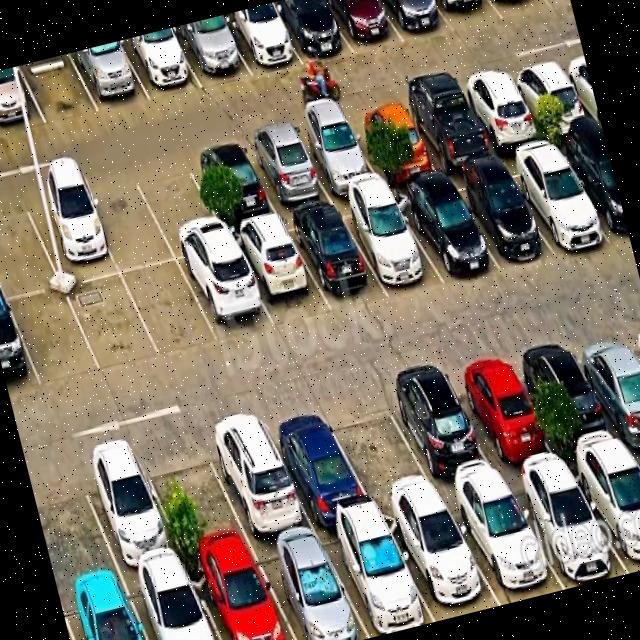empty: (135, 430, 251, 561), (320, 384, 440, 509), (27, 456, 120, 593), (131, 155, 229, 260), (80, 171, 175, 273), (65, 273, 161, 372), (121, 261, 218, 357), (8, 288, 101, 387), (0, 196, 61, 298), (19, 53, 99, 123)
occupied: (378, 365, 504, 498), (198, 408, 314, 544), (443, 350, 563, 481), (72, 442, 185, 575), (259, 399, 375, 527), (506, 468, 628, 589), (514, 334, 627, 463), (444, 483, 564, 604), (317, 514, 434, 638), (382, 501, 500, 621), (250, 532, 369, 640), (499, 146, 611, 253), (228, 219, 331, 329), (443, 166, 552, 269), (391, 181, 500, 284), (283, 205, 387, 311), (336, 193, 444, 294), (186, 547, 295, 640), (21, 183, 119, 286), (566, 322, 640, 447), (567, 448, 640, 573), (178, 248, 275, 342), (398, 87, 496, 173), (554, 134, 630, 243), (184, 142, 278, 229), (240, 129, 332, 213), (290, 116, 382, 198), (123, 563, 220, 640), (345, 102, 439, 181), (456, 72, 546, 152), (506, 59, 595, 138), (119, 27, 202, 100), (218, 5, 302, 75), (70, 41, 150, 112), (267, 0, 353, 64), (172, 17, 250, 87), (59, 578, 147, 640), (325, 0, 403, 54), (0, 296, 41, 396), (0, 65, 45, 134), (380, 0, 453, 42), (433, 0, 503, 33), (490, 0, 551, 19)
